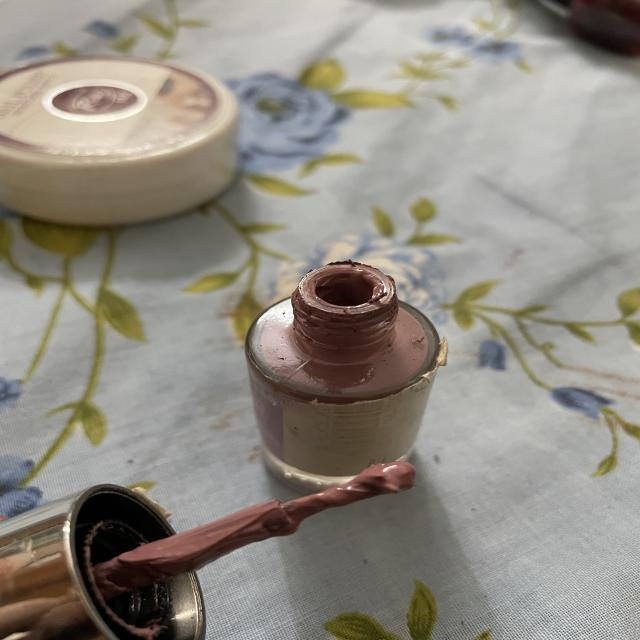nail polish: (0, 424, 458, 640), (226, 240, 477, 483)
